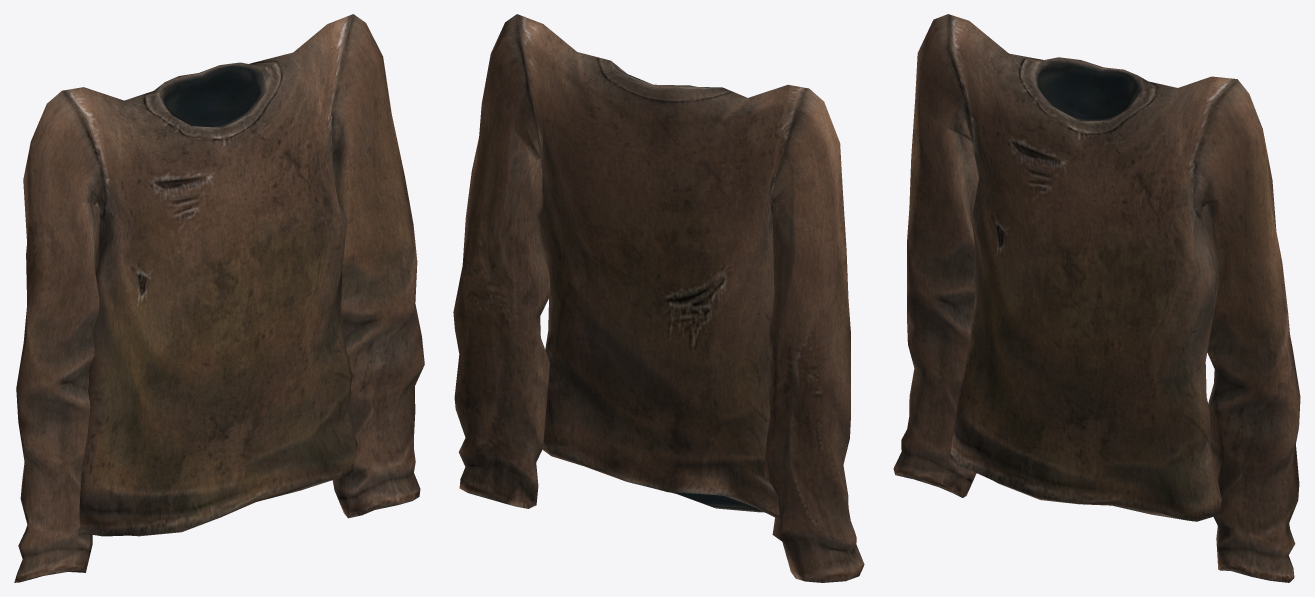
The model's file is shirt_pegged_straight.dae.
The picture shows the model from 3 angles, left to right: view 1: azimuth 30°, elevation 25°; view 2: azimuth 150°, elevation 25°; view 3: azimuth 330°, elevation 25°; orthographic projection.
Visible parts, largest first — view 1: shirt_pegged_straight; view 2: shirt_pegged_straight; view 3: shirt_pegged_straight.
Boxes of the visible parts, x1=… form: shirt_pegged_straight: x1=14, y1=14, x2=424, y2=582; shirt_pegged_straight: x1=453, y1=14, x2=864, y2=582; shirt_pegged_straight: x1=893, y1=14, x2=1300, y2=582.
Bounding box in the file's own units: 0.516 × 0.5989 × 0.0728.
